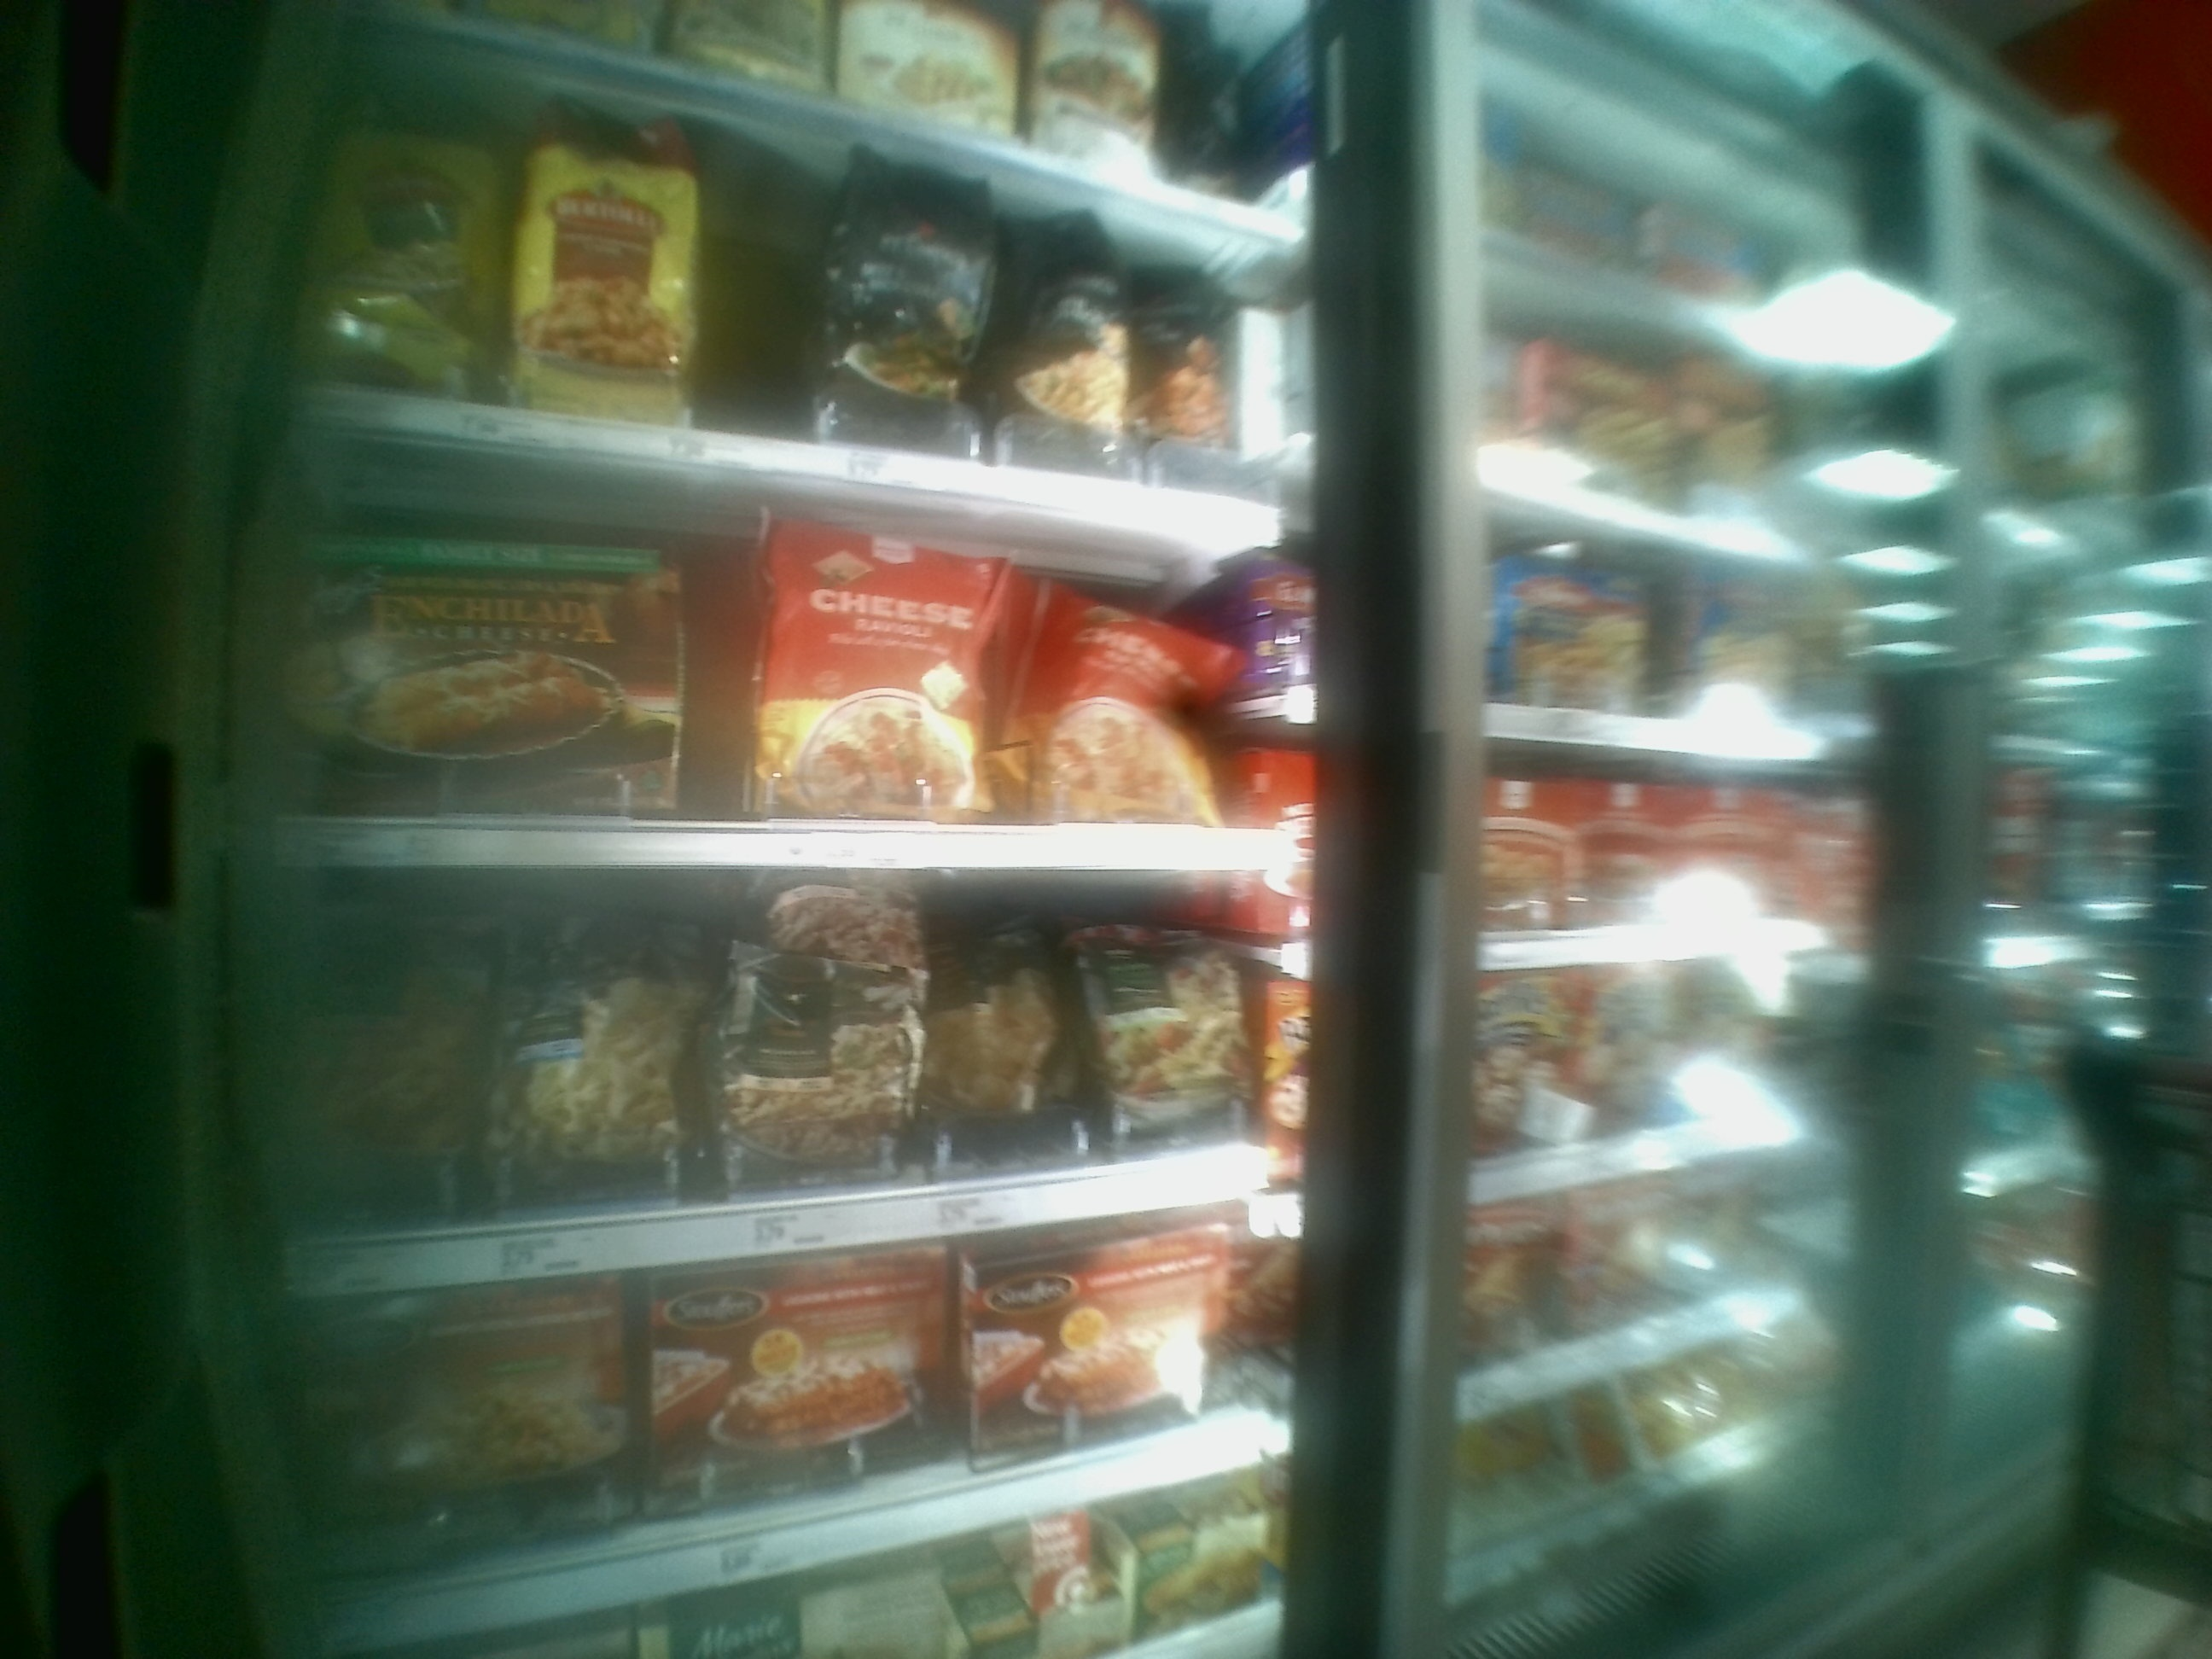shelf: (291, 56, 1233, 552), (254, 897, 1306, 1297), (258, 538, 1291, 884)
